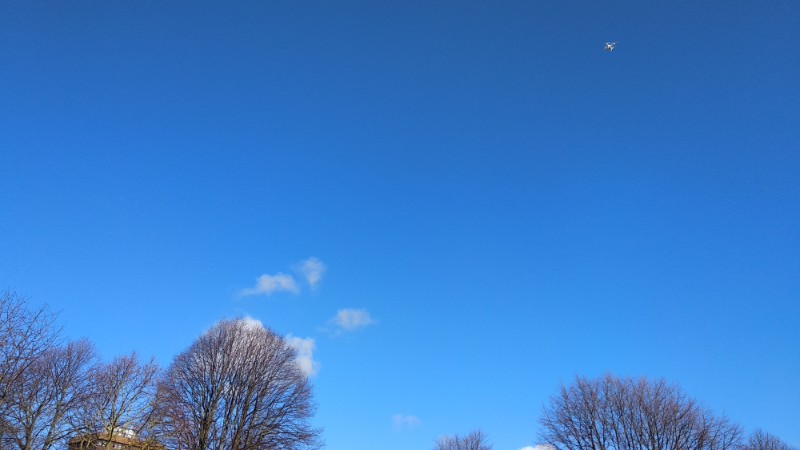drone: (602, 40, 618, 55)
